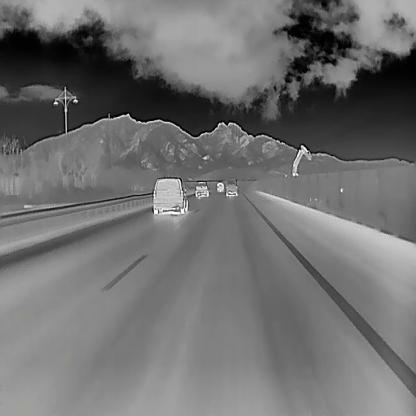car: (152, 177, 189, 215), (195, 180, 210, 198), (225, 178, 237, 196), (215, 180, 224, 192)
